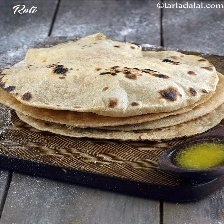roti: (0, 33, 224, 140)
